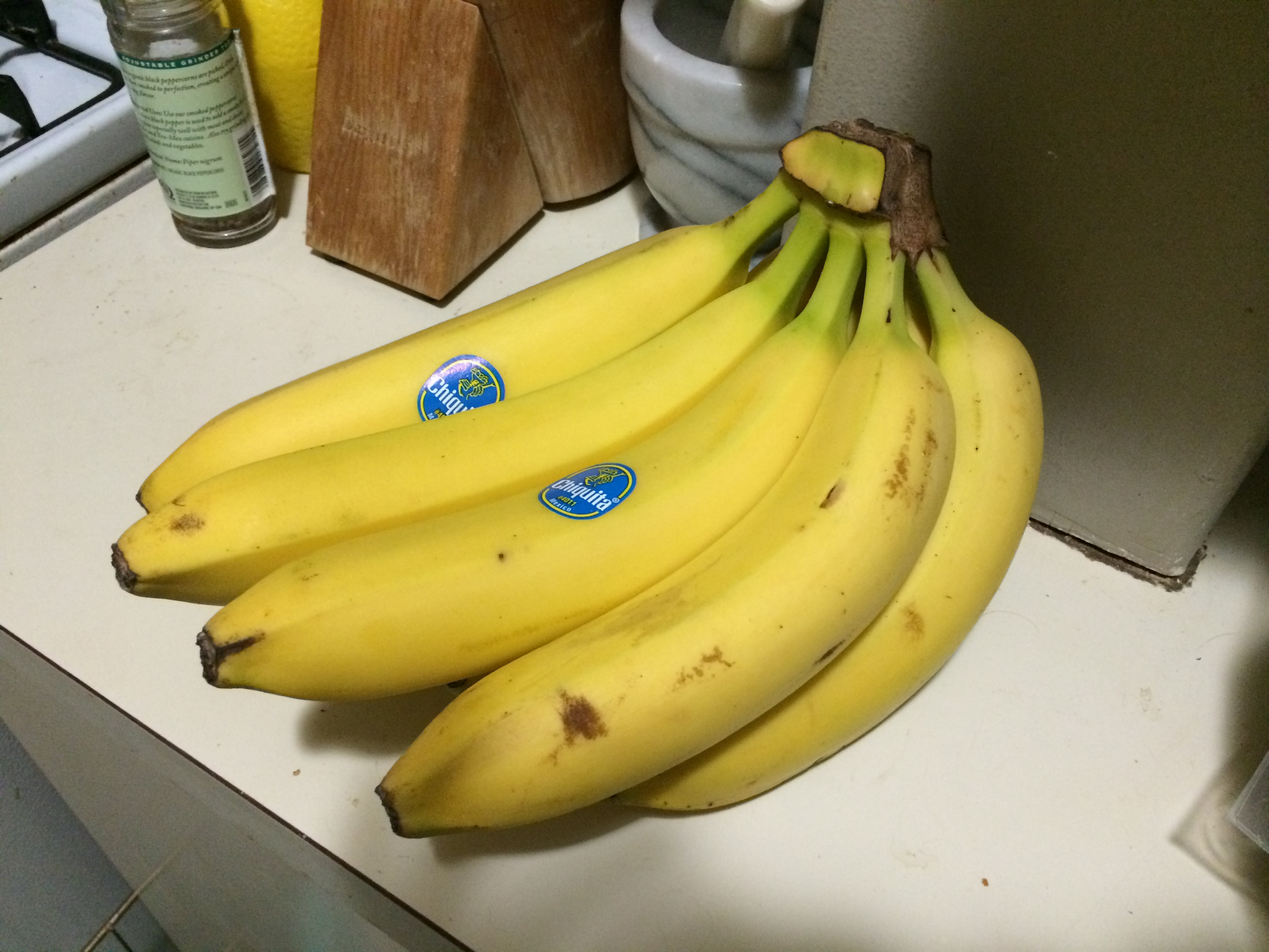banana: (108, 106, 1069, 850)
